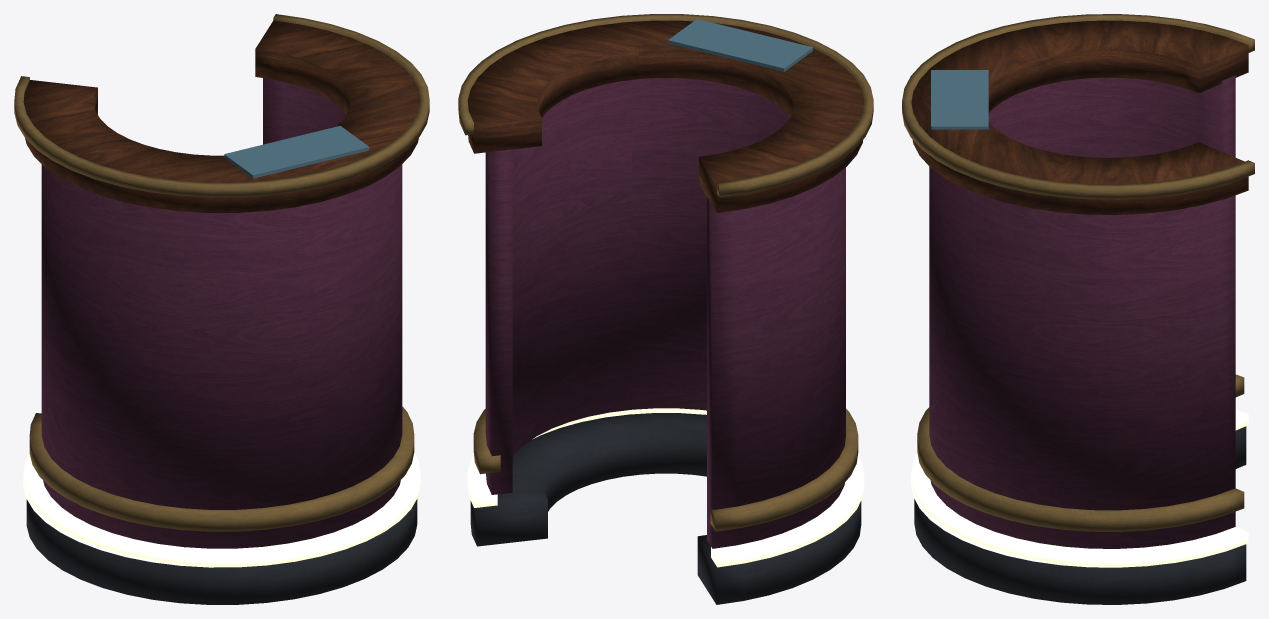
The model's file is court3d__trial_podium.glb.
The picture shows the model from 3 angles, left to right: view 1: azimuth 30°, elevation 25°; view 2: azimuth 150°, elevation 25°; view 3: azimuth 270°, elevation 25°; orthographic projection.
Parts seen in each view (by area): view 1: Rebuilt_trial_podium; view 2: Rebuilt_trial_podium; view 3: Rebuilt_trial_podium.
Part boxes in pixels (box(x1,y1,x2,y2)): Rebuilt_trial_podium: box(14, 14, 429, 604); Rebuilt_trial_podium: box(458, 14, 873, 604); Rebuilt_trial_podium: box(902, 14, 1254, 604).
Bounding box in the file's own units: 1.36 × 1.54 × 1.16.
6 materials, 4 textured.
